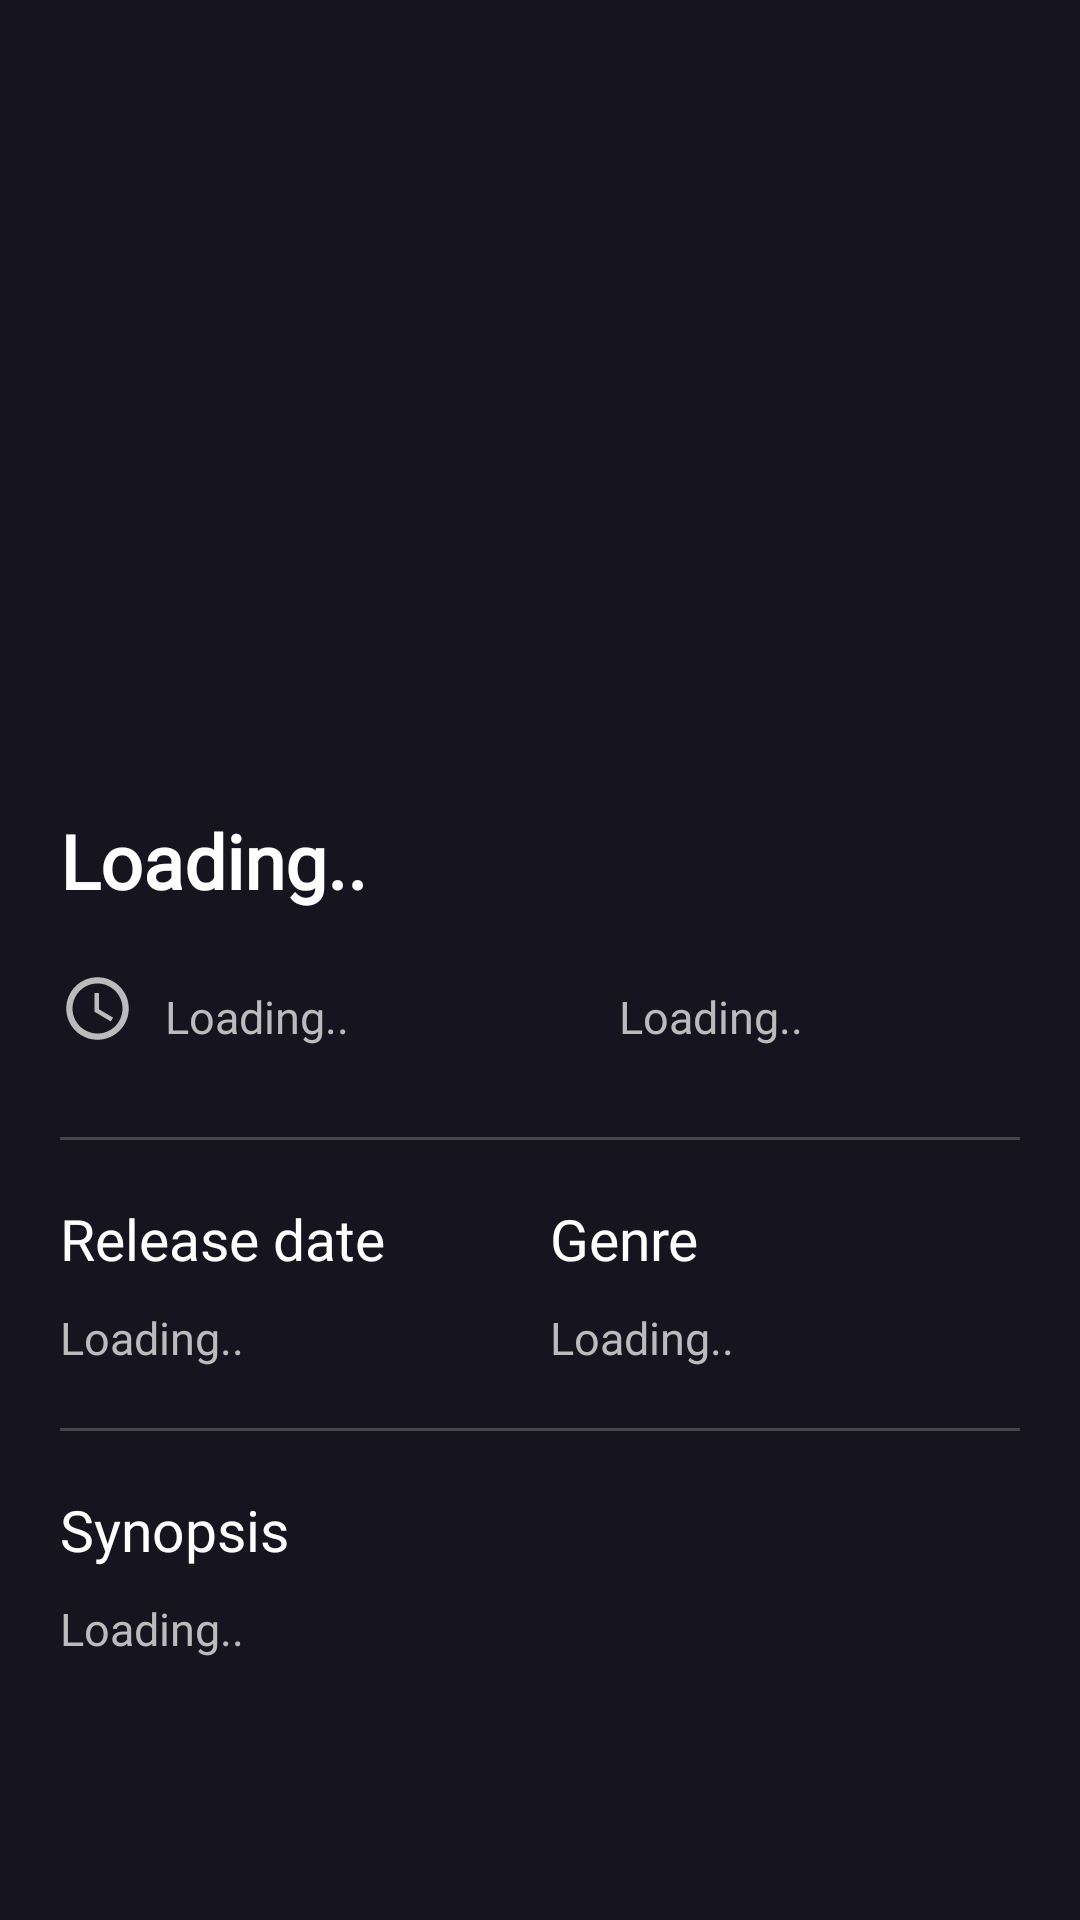

Point at icon controls on the screen. Image size 1080w x 1920h, points as (x,y).
access time: (97,1008)
